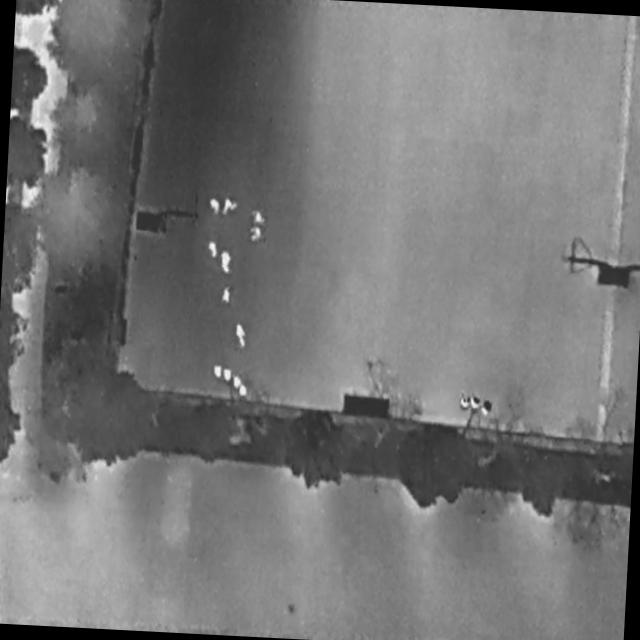person: (231, 321, 251, 353), (220, 194, 242, 220), (208, 195, 226, 220), (219, 250, 235, 278), (206, 240, 222, 262), (248, 227, 265, 243), (252, 210, 267, 227), (222, 288, 233, 305)
